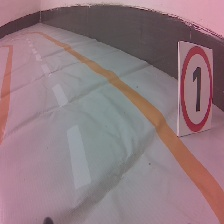limit: (175, 37, 215, 137)
